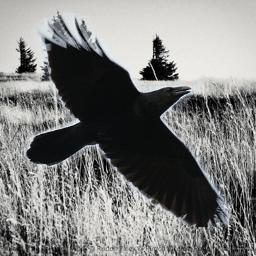Crow: (24, 11, 233, 227)
